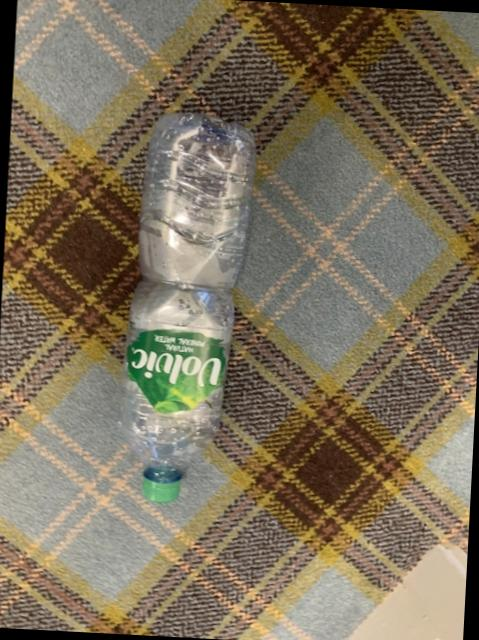plastic: (121, 114, 256, 502)
